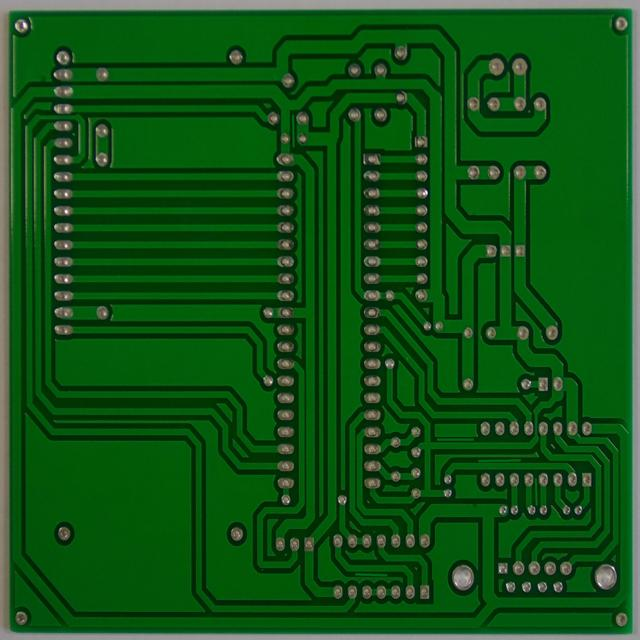spurious_copper: (473, 454, 525, 467), (351, 567, 393, 581), (432, 433, 474, 444), (288, 109, 298, 149), (531, 472, 542, 508)
